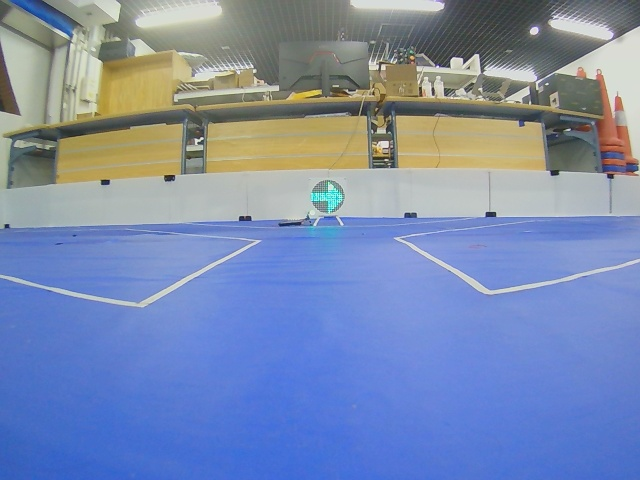right_green: (310, 180, 345, 214)
